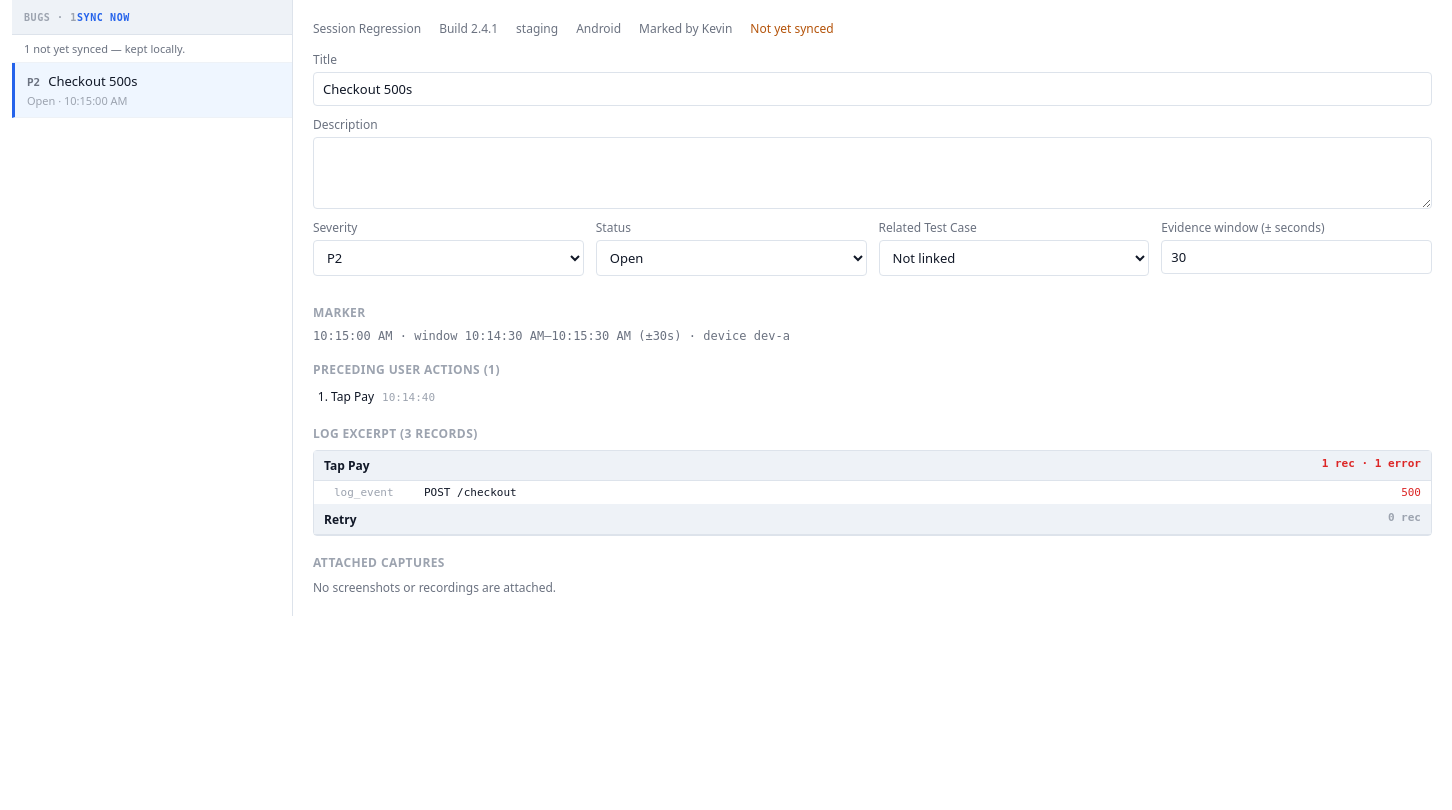
an unsynced bug says so, and syncing while offline leaves it recorded and queued
Expected: the text "Not yet synced" is shown, [750,20,834,37]
Expected: the message shows "1 not yet synced", [24,41,185,56]
Click the button "Sync now" at (104,17), box [77,12,130,22]
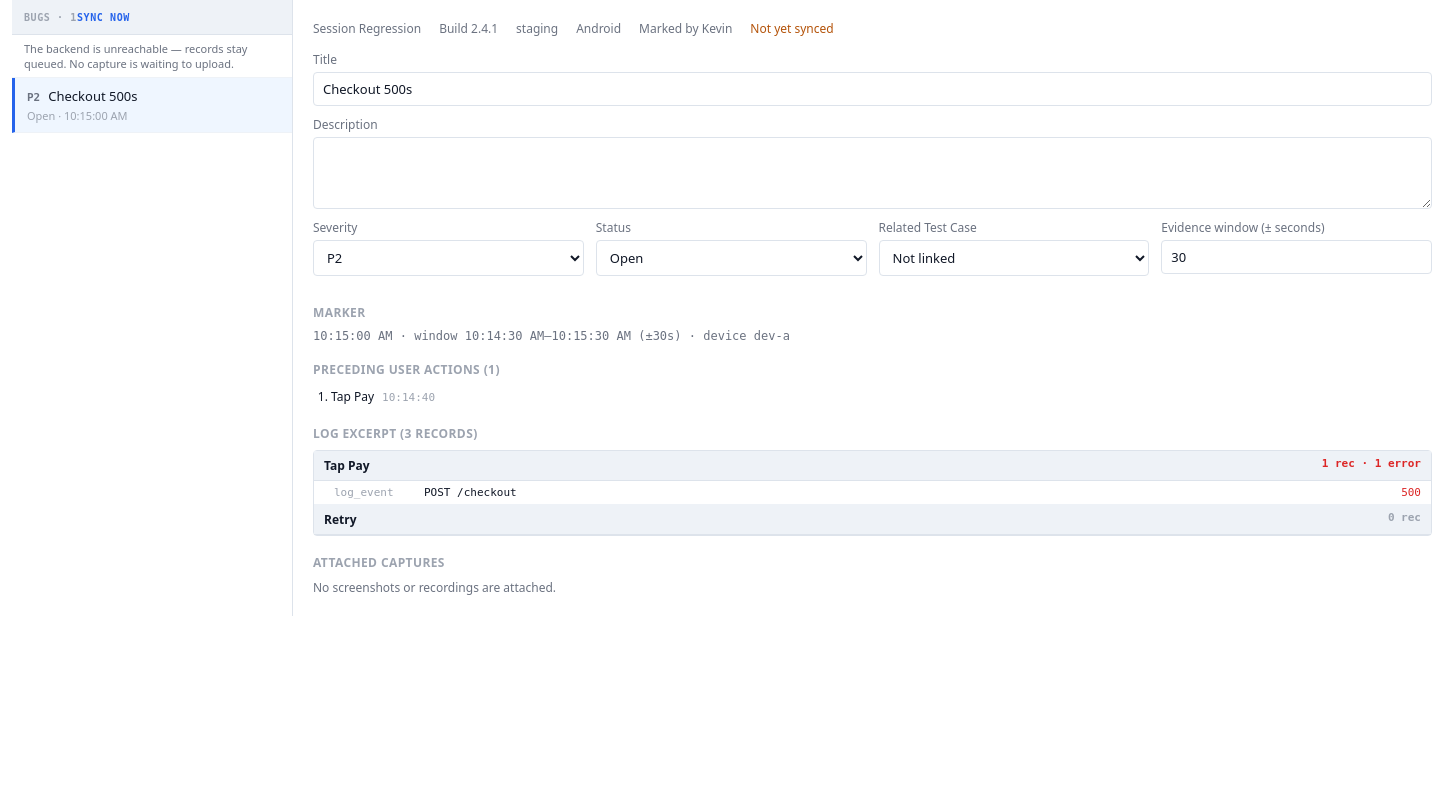
Expected: the text "Not yet synced" is shown, [750,20,834,37]
Expected: the message shows "unreachable", [24,41,247,71]
